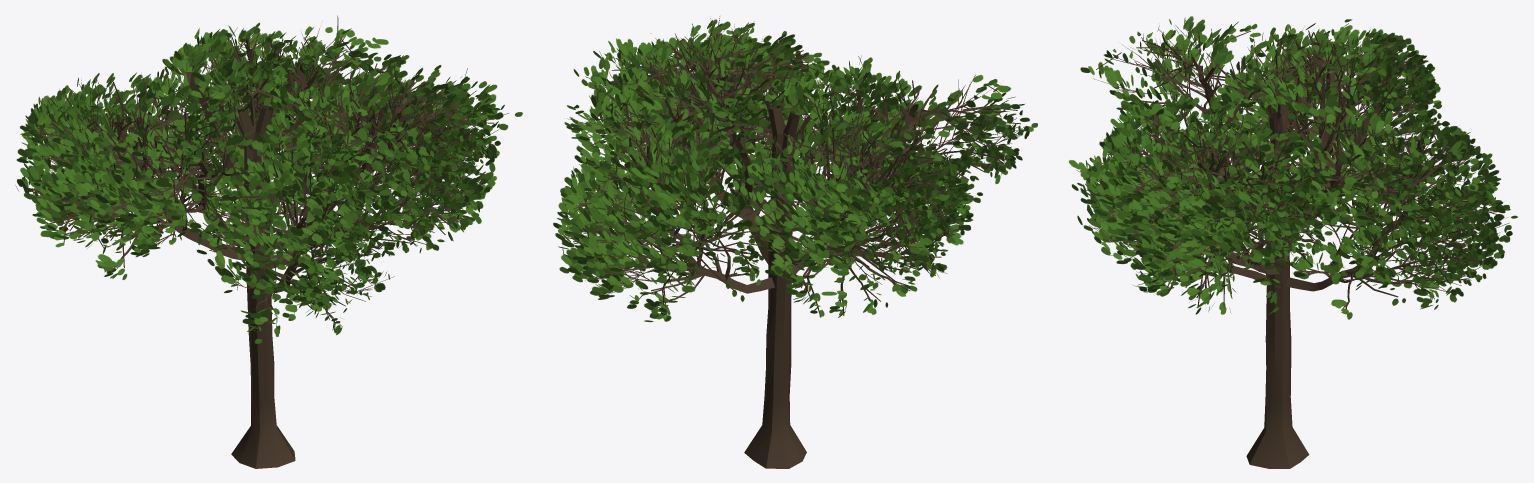
The picture shows the model from 3 angles, left to right: view 1: azimuth 30°, elevation 25°; view 2: azimuth 150°, elevation 25°; view 3: azimuth 270°, elevation 25°; orthographic projection.
Visible parts, largest first — view 1: oak 01.001_trunk_Mat.001_0.078; view 2: oak 01.001_trunk_Mat.001_0.078; view 3: oak 01.001_trunk_Mat.001_0.078.
Part boxes in pixels (<box>): oak 01.001_trunk_Mat.001_0.078: <box>15,15,522,468</box>; oak 01.001_trunk_Mat.001_0.078: <box>553,16,1037,468</box>; oak 01.001_trunk_Mat.001_0.078: <box>1068,16,1517,468</box>.
Bounding box in the file's own units: 6.71 × 5.5 × 6.17.
2 materials, 1 textured.
